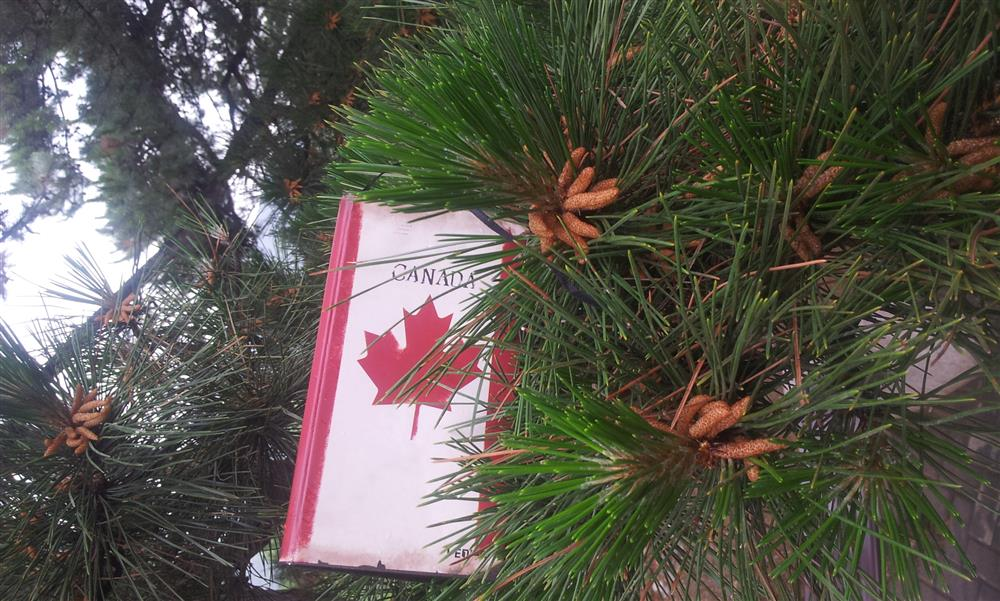canada_book: (275, 178, 547, 579)
